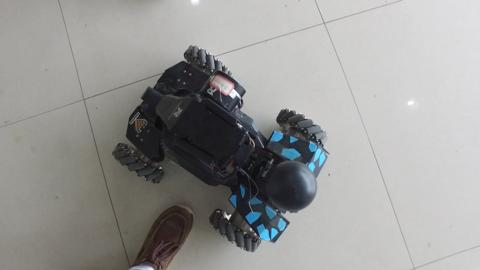chariot: (102, 23, 345, 244)
